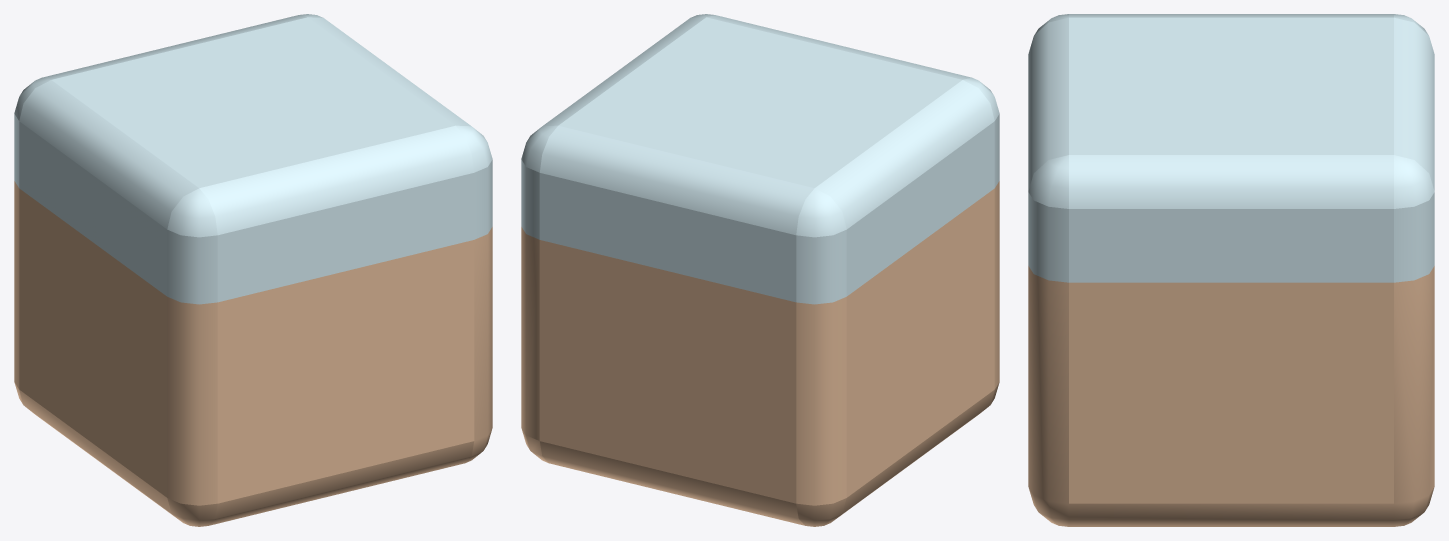
The picture shows the model from 3 angles, left to right: view 1: azimuth 30°, elevation 25°; view 2: azimuth 150°, elevation 25°; view 3: azimuth 270°, elevation 25°; orthographic projection. The views are drawn at different scales.
Parts seen in each view (by area): view 1: blockSnowRounded; view 2: blockSnowRounded; view 3: blockSnowRounded.
Boxes of the visible parts, box(x1,y1,x2,y2) form: blockSnowRounded: box(14, 14, 492, 526); blockSnowRounded: box(521, 14, 999, 526); blockSnowRounded: box(1028, 14, 1434, 526).
Size of the model in its own units: 1 by 1 by 1.
